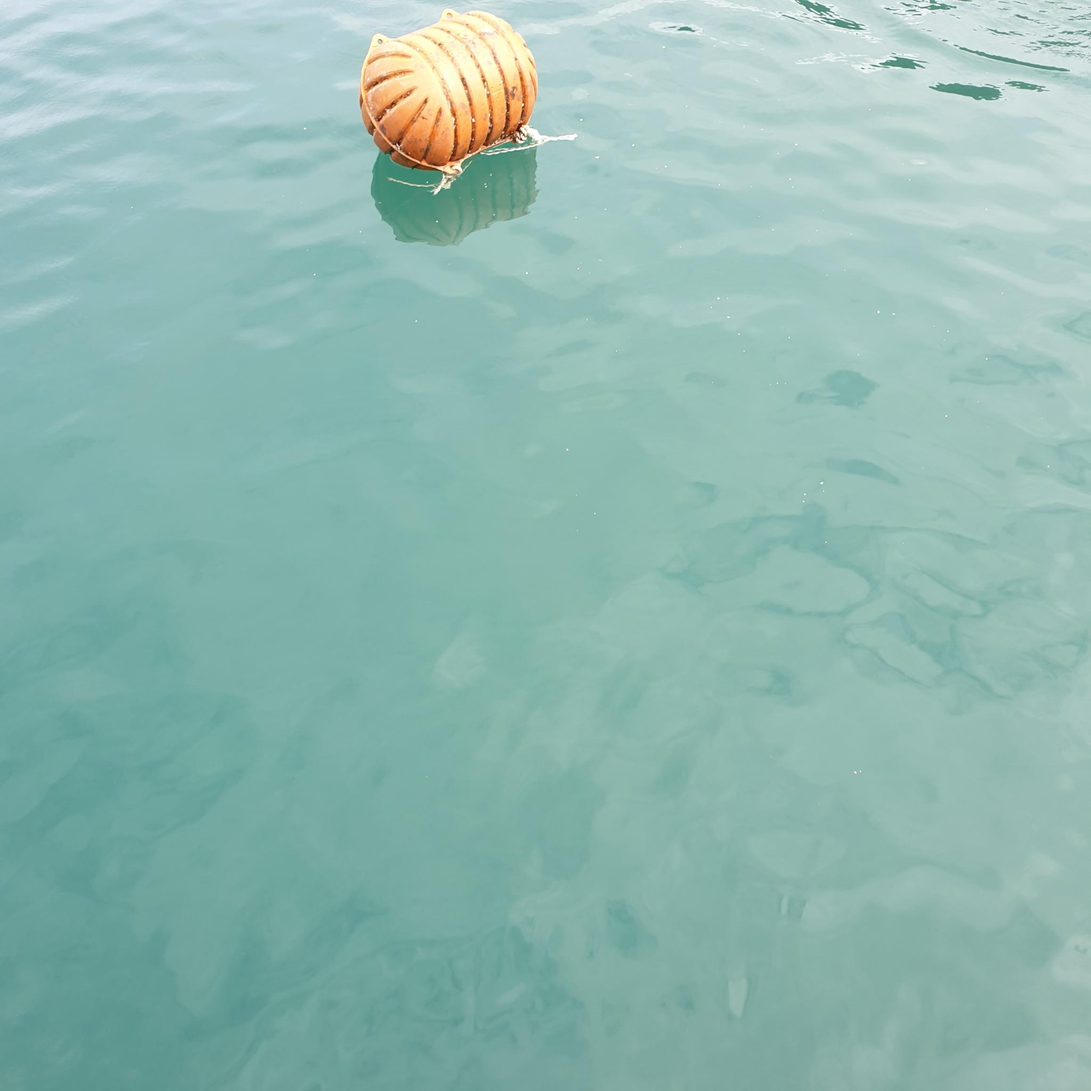sampah_terapung: (359, 9, 539, 175), (480, 125, 578, 156), (388, 161, 474, 196)
